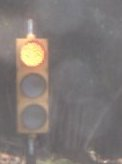Red: (14, 32, 50, 146)
